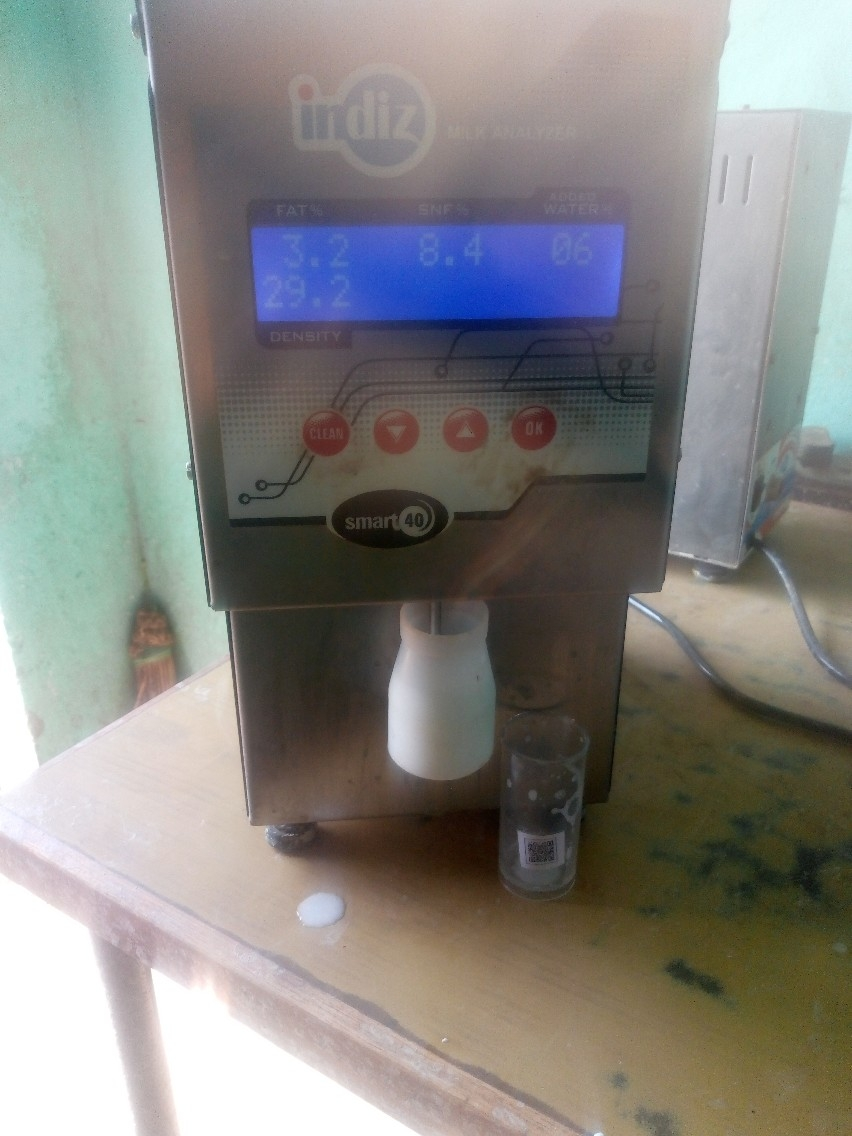lcd: (245, 216, 633, 333)
qr: (509, 825, 573, 871)
